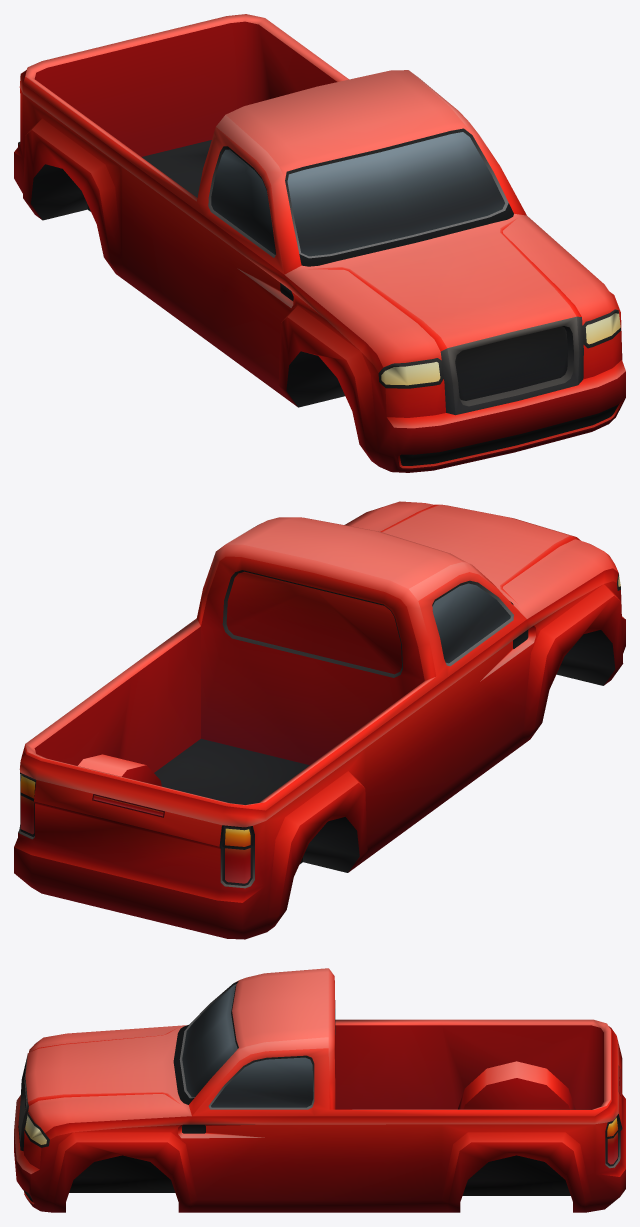
File: RedTruckBody.fbx
3 views of the same model, one above another, from view 1: azimuth 30°, elevation 25°; view 2: azimuth 150°, elevation 25°; view 3: azimuth 270°, elevation 25° (orthographic). The views are drawn at different scales.
Visible parts, largest first — view 1: RedTruckBody; view 2: RedTruckBody; view 3: RedTruckBody.
Boxes of the visible parts, <box> form: RedTruckBody: <box>14,14,625,472</box>; RedTruckBody: <box>14,501,625,939</box>; RedTruckBody: <box>14,968,625,1212</box>.
Bounding box in the file's own units: 2633 × 2082 × 6755.
